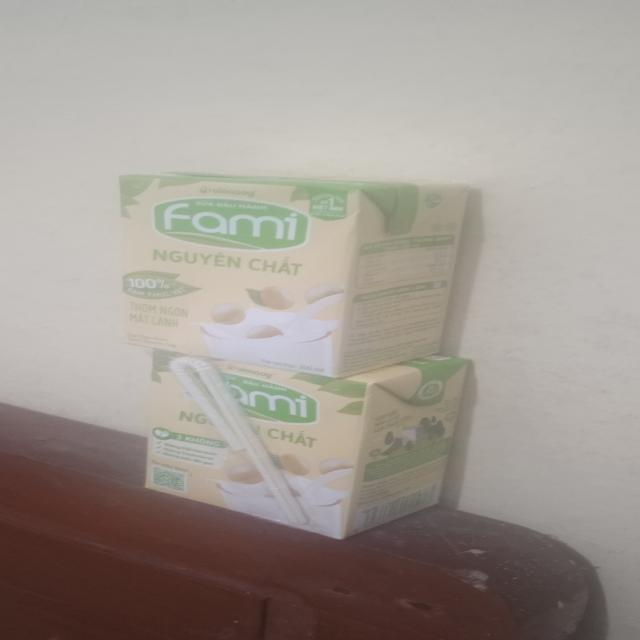Fami: (123, 174, 476, 379), (146, 351, 474, 541)
